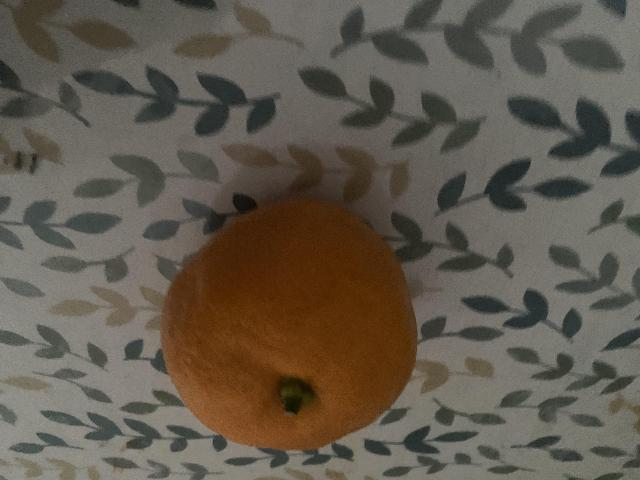Organik: (154, 203, 427, 456)
